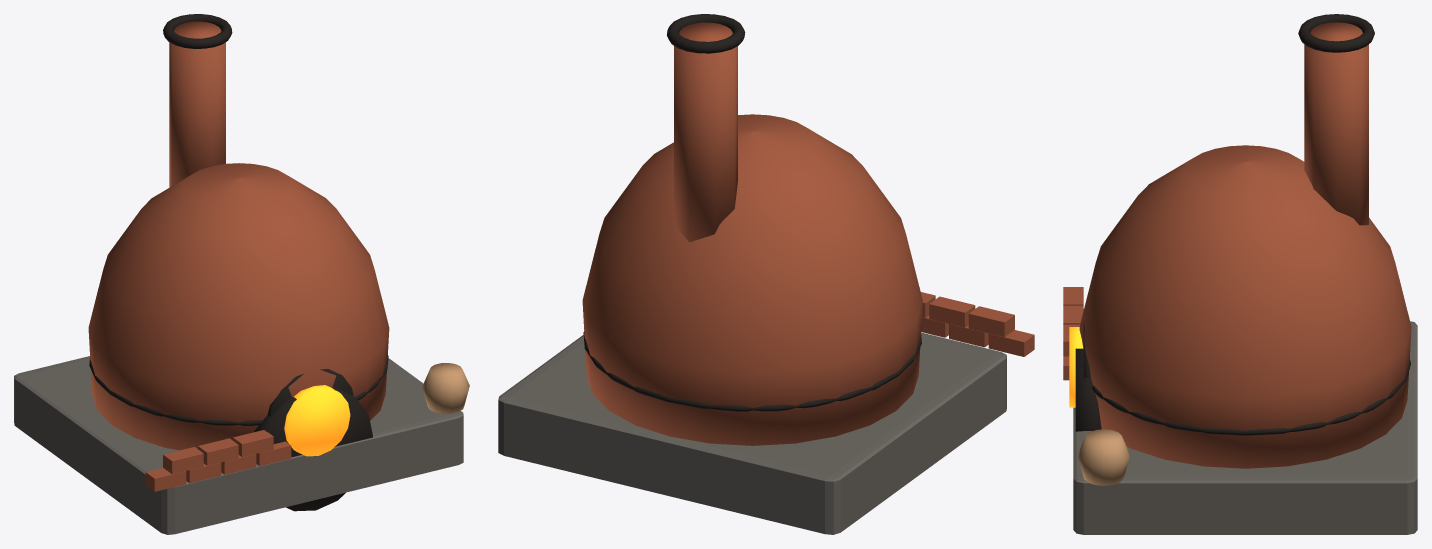
Rendered from brennofen.glb.
3 renders of one model, left to right at view 1: azimuth 30°, elevation 25°; view 2: azimuth 150°, elevation 25°; view 3: azimuth 270°, elevation 25°, orthographic. The views are drawn at different scales.
Visible parts, largest first — view 1: Cube; view 2: Cube; view 3: Cube.
Part boxes in pixels (x1=…): Cube: x1=14, y1=14, x2=469, y2=534; Cube: x1=498, y1=14, x2=1034, y2=534; Cube: x1=1063, y1=14, x2=1417, y2=534.
Bounding box in the file's own units: 2.08 × 2.39 × 1.75.
